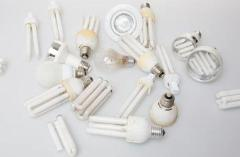lightbulb: (24, 0, 222, 146), (24, 75, 92, 117), (172, 30, 222, 82), (87, 115, 166, 143), (44, 39, 92, 72), (104, 4, 142, 42), (75, 14, 99, 59), (150, 92, 178, 126), (95, 48, 136, 70), (137, 51, 165, 78), (0, 57, 6, 76)
